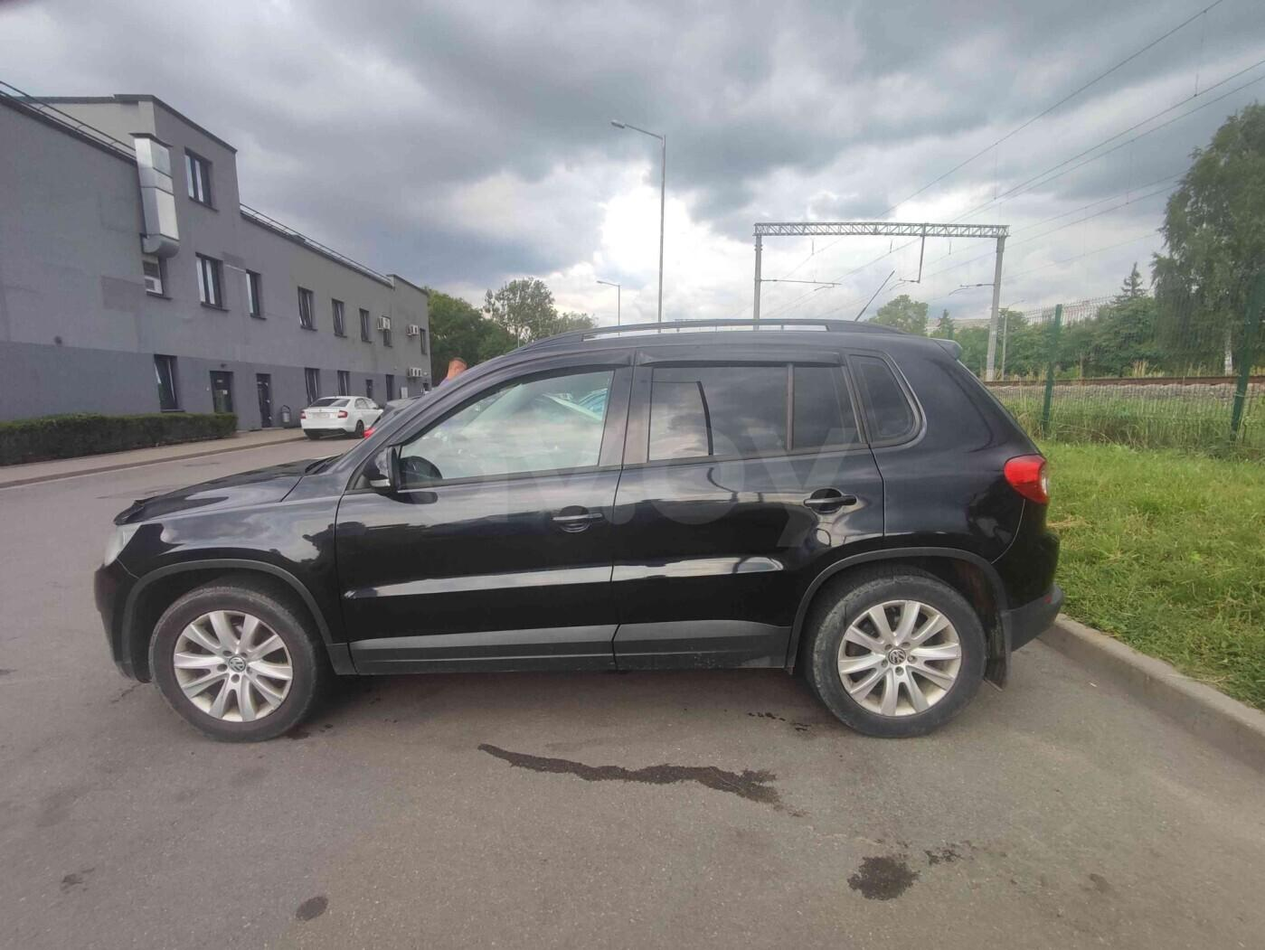Tiguan_2007-2011: (88, 323, 1063, 742)
